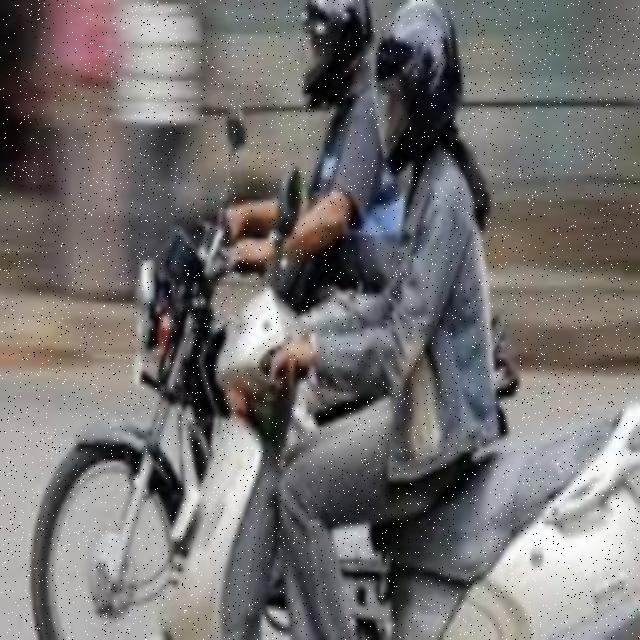with-helmet: (374, 0, 464, 188), (306, 0, 372, 128)
